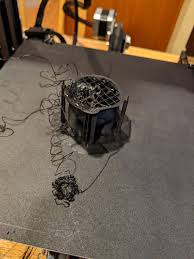fail: (24, 53, 80, 207), (40, 75, 109, 113), (1, 107, 70, 137)
